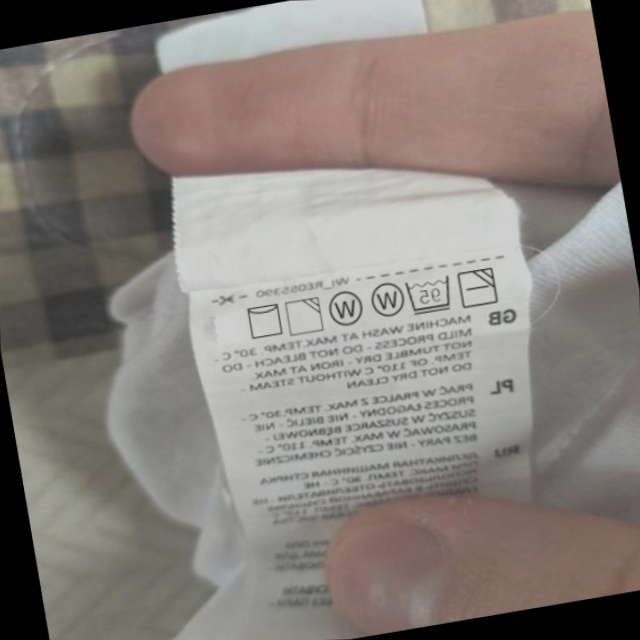95C: (402, 272, 456, 317)
dry_flat_in_shade: (455, 263, 501, 311)
line_dry: (241, 298, 286, 342)
shade_dry: (282, 294, 326, 339)
wet_clean: (324, 287, 367, 331), (365, 276, 407, 321)
